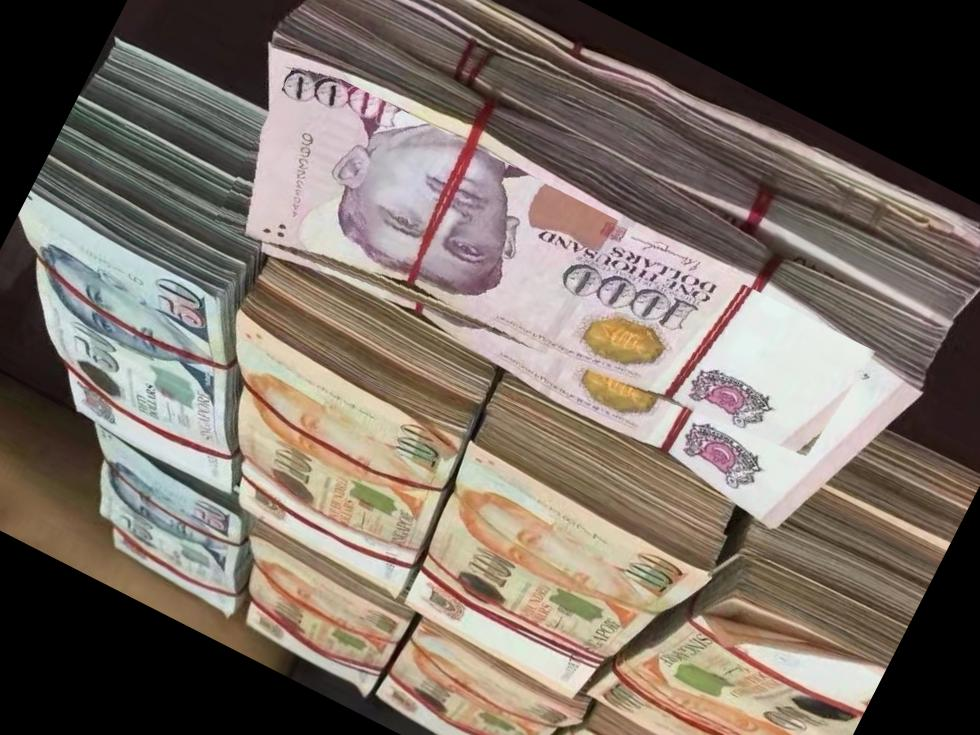1000SingaporeDollar: (213, 58, 882, 523)
